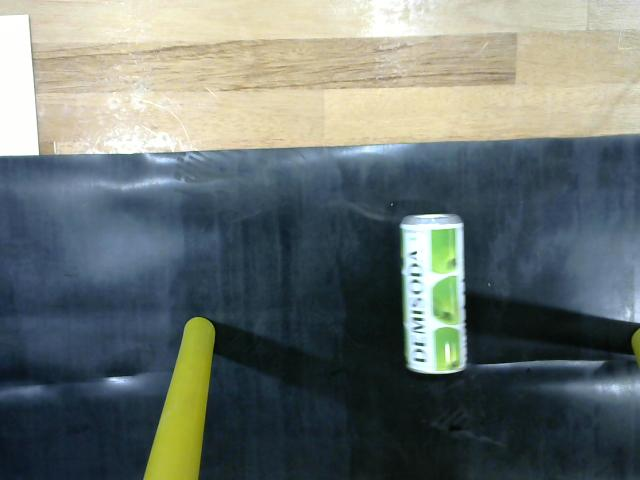can: (394, 203, 476, 383)
